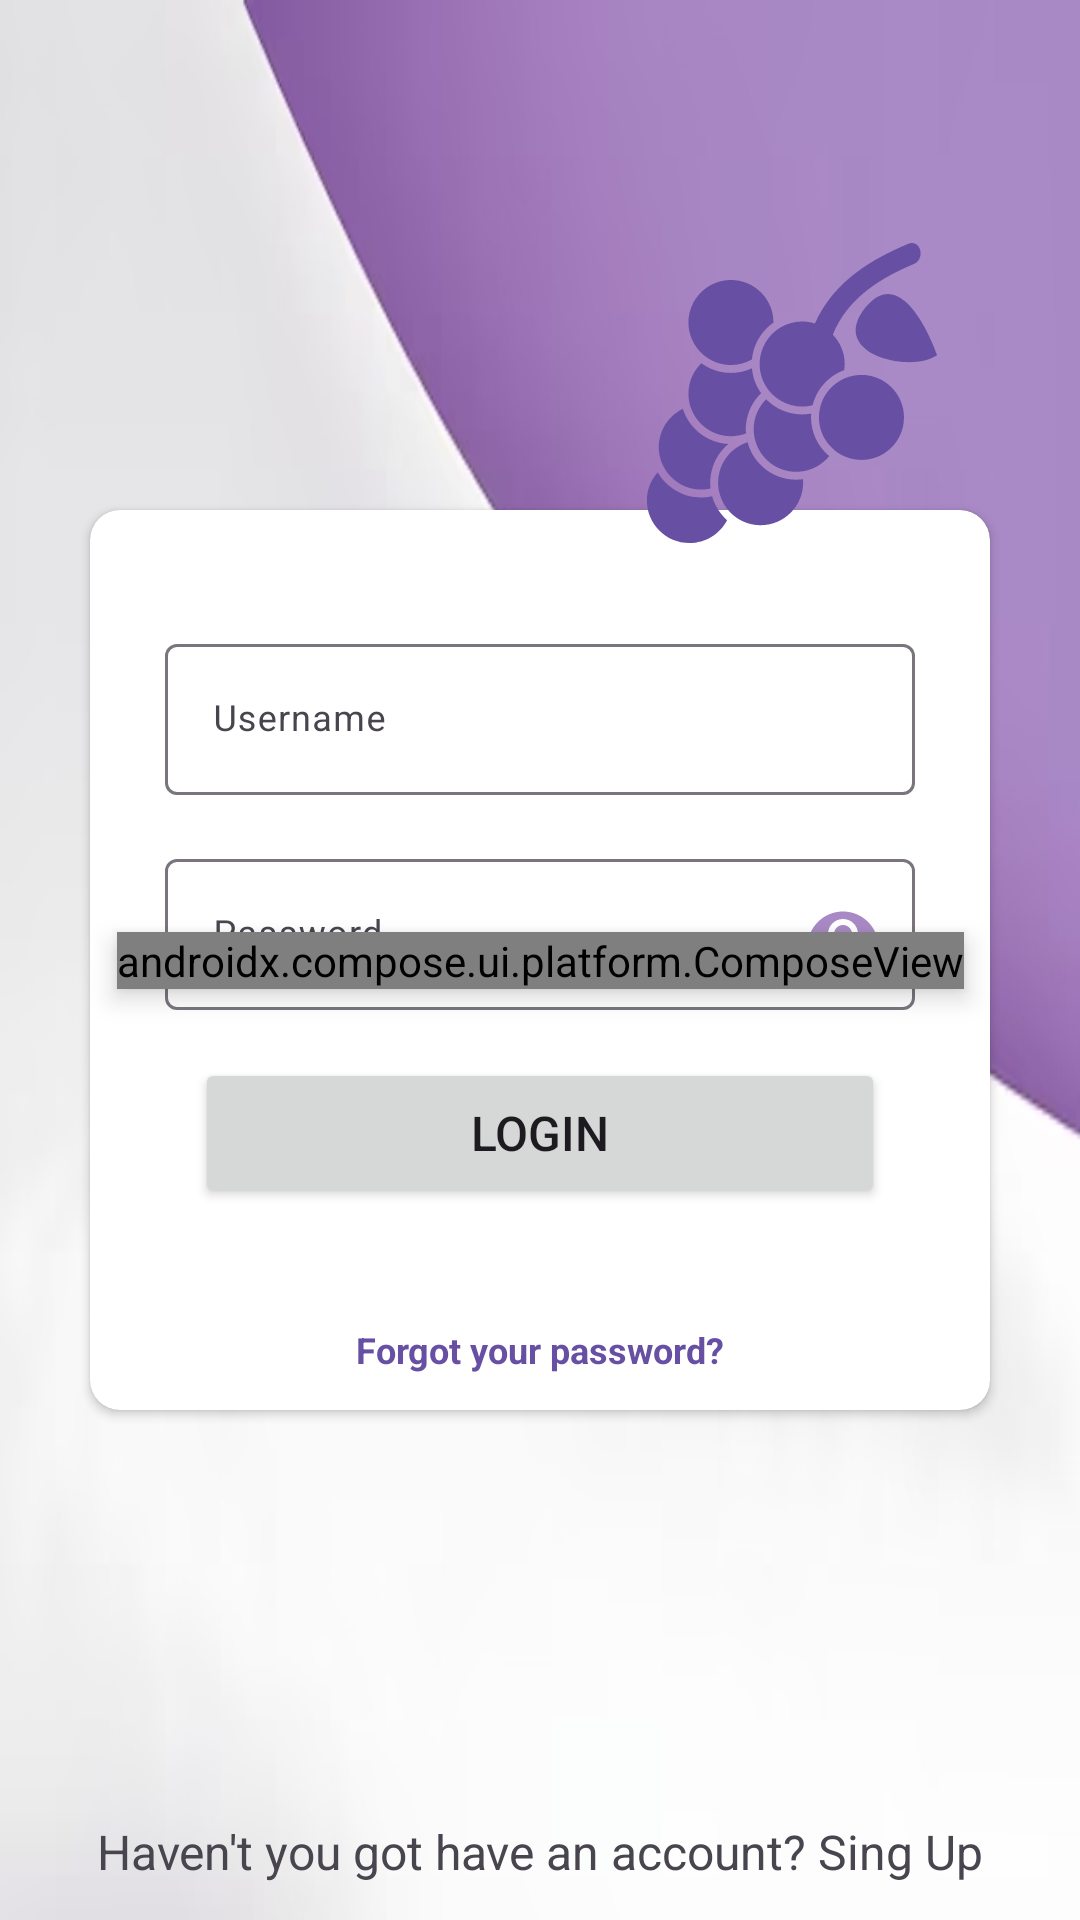

Where to tap for icons on this 1080 x 1920 app screen, as (x,y):
grapes: (792,393)
